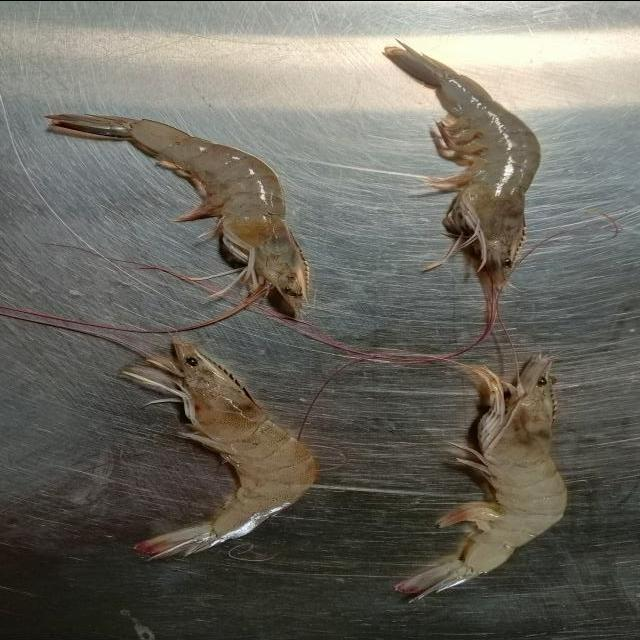shrimp: (43, 114, 308, 313), (386, 47, 544, 329), (126, 333, 320, 561), (395, 353, 569, 603)
